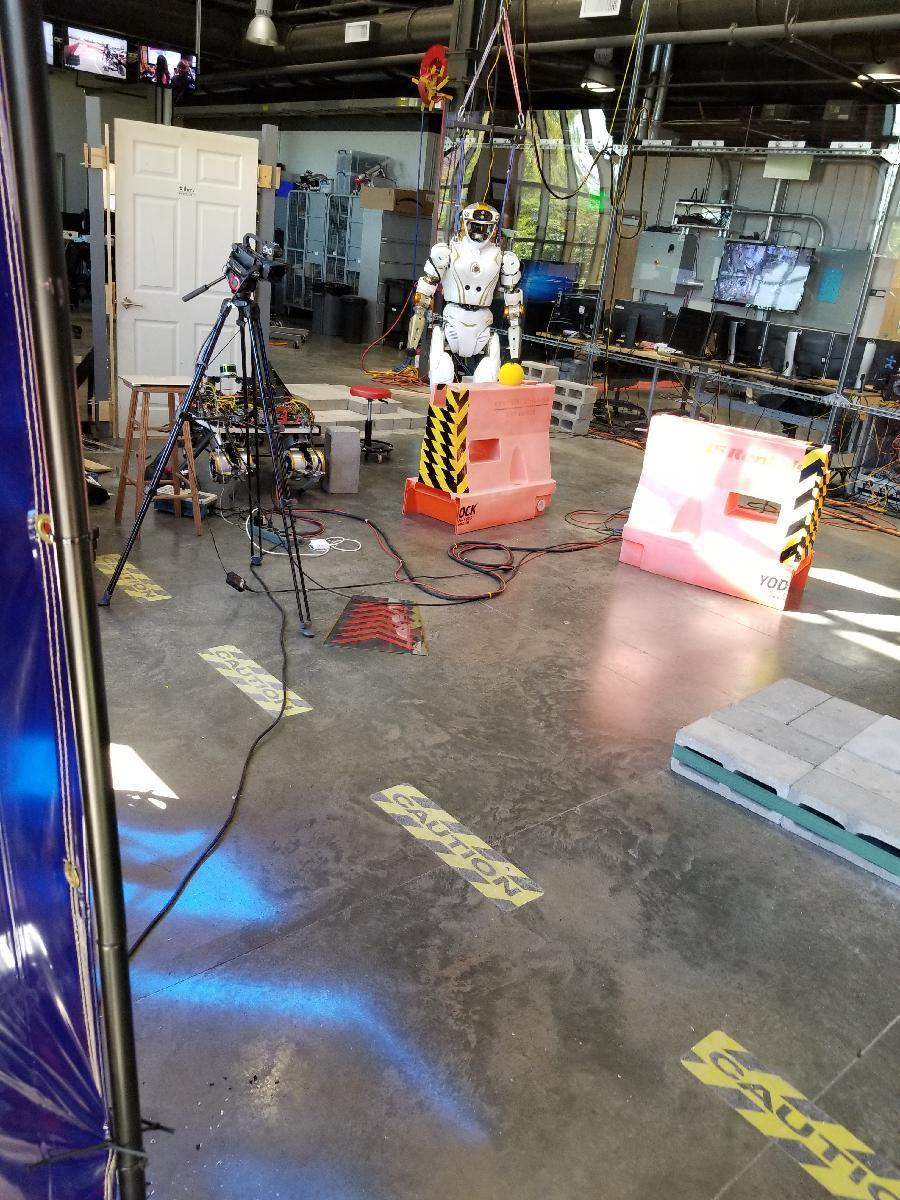door: (116, 118, 253, 446)
handle: (120, 294, 148, 314)
